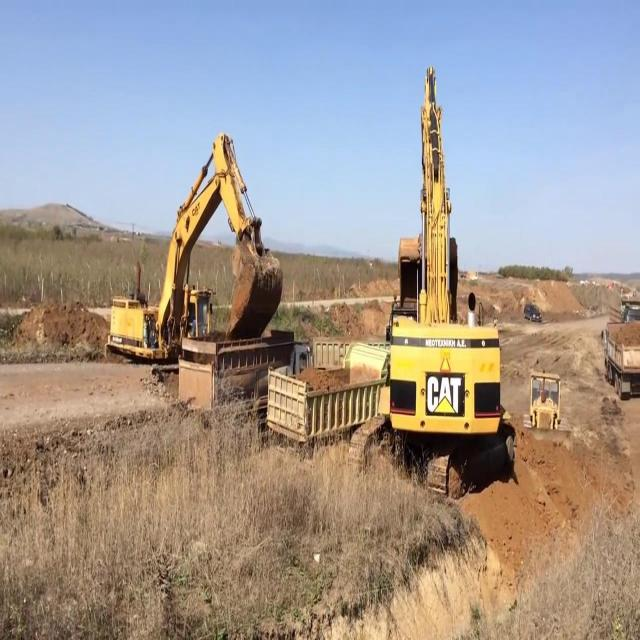Dump Truck: (267, 340, 387, 460), (174, 324, 281, 422), (605, 318, 639, 398)
Excavator: (388, 69, 516, 512), (100, 127, 282, 365)
Loader: (521, 368, 573, 454)
